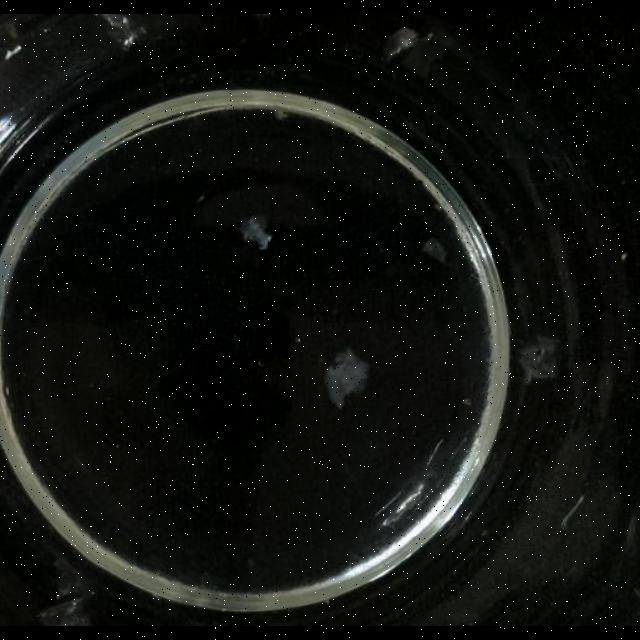Fibre: (35, 568, 95, 626), (517, 337, 561, 383), (382, 28, 422, 61), (236, 214, 274, 248), (560, 494, 586, 532), (421, 237, 447, 263), (5, 44, 23, 60), (272, 109, 290, 121)
Fragment: (322, 348, 372, 410)
